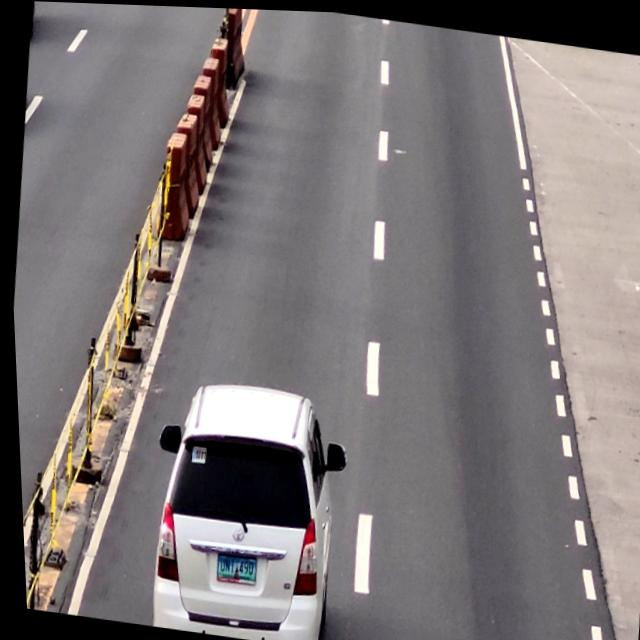Car: (144, 374, 341, 640)
License-Plate: (207, 545, 255, 592)
